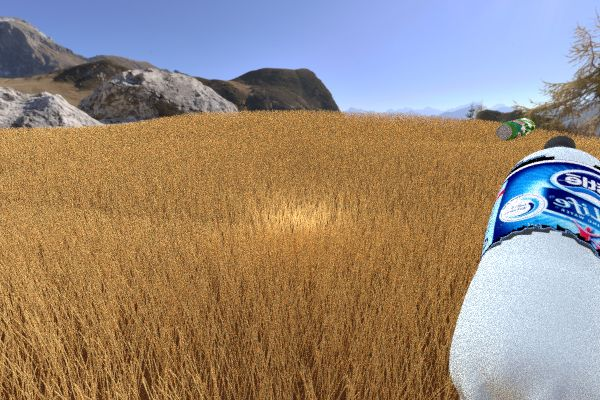Plastic Bottle: (449, 135, 600, 400), (496, 117, 534, 140)
